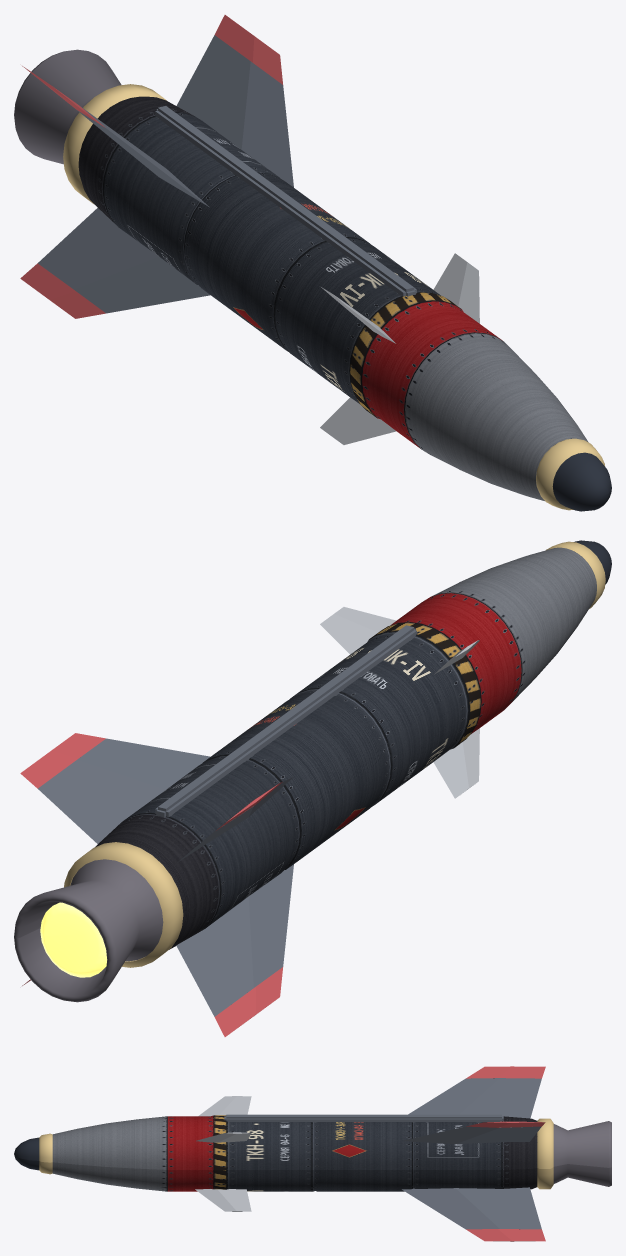
The model's file is prop_token_missile.glb.
The picture shows the model from 3 angles, top to bottom: view 1: azimuth 30°, elevation 25°; view 2: azimuth 150°, elevation 25°; view 3: azimuth 270°, elevation 25°; orthographic projection. The views are drawn at different scales.
Parts seen in each view (by area): view 1: prop_token_missile; view 2: prop_token_missile; view 3: prop_token_missile.
Part boxes in pixels (left/top/right/bottom): prop_token_missile: left=14, top=15, right=611, bottom=511; prop_token_missile: left=14, top=540, right=611, bottom=1036; prop_token_missile: left=14, top=1066, right=611, bottom=1241.
Size of the model in its own units: 0.1683 by 0.1683 by 0.76.
8 materials, 1 textured.
